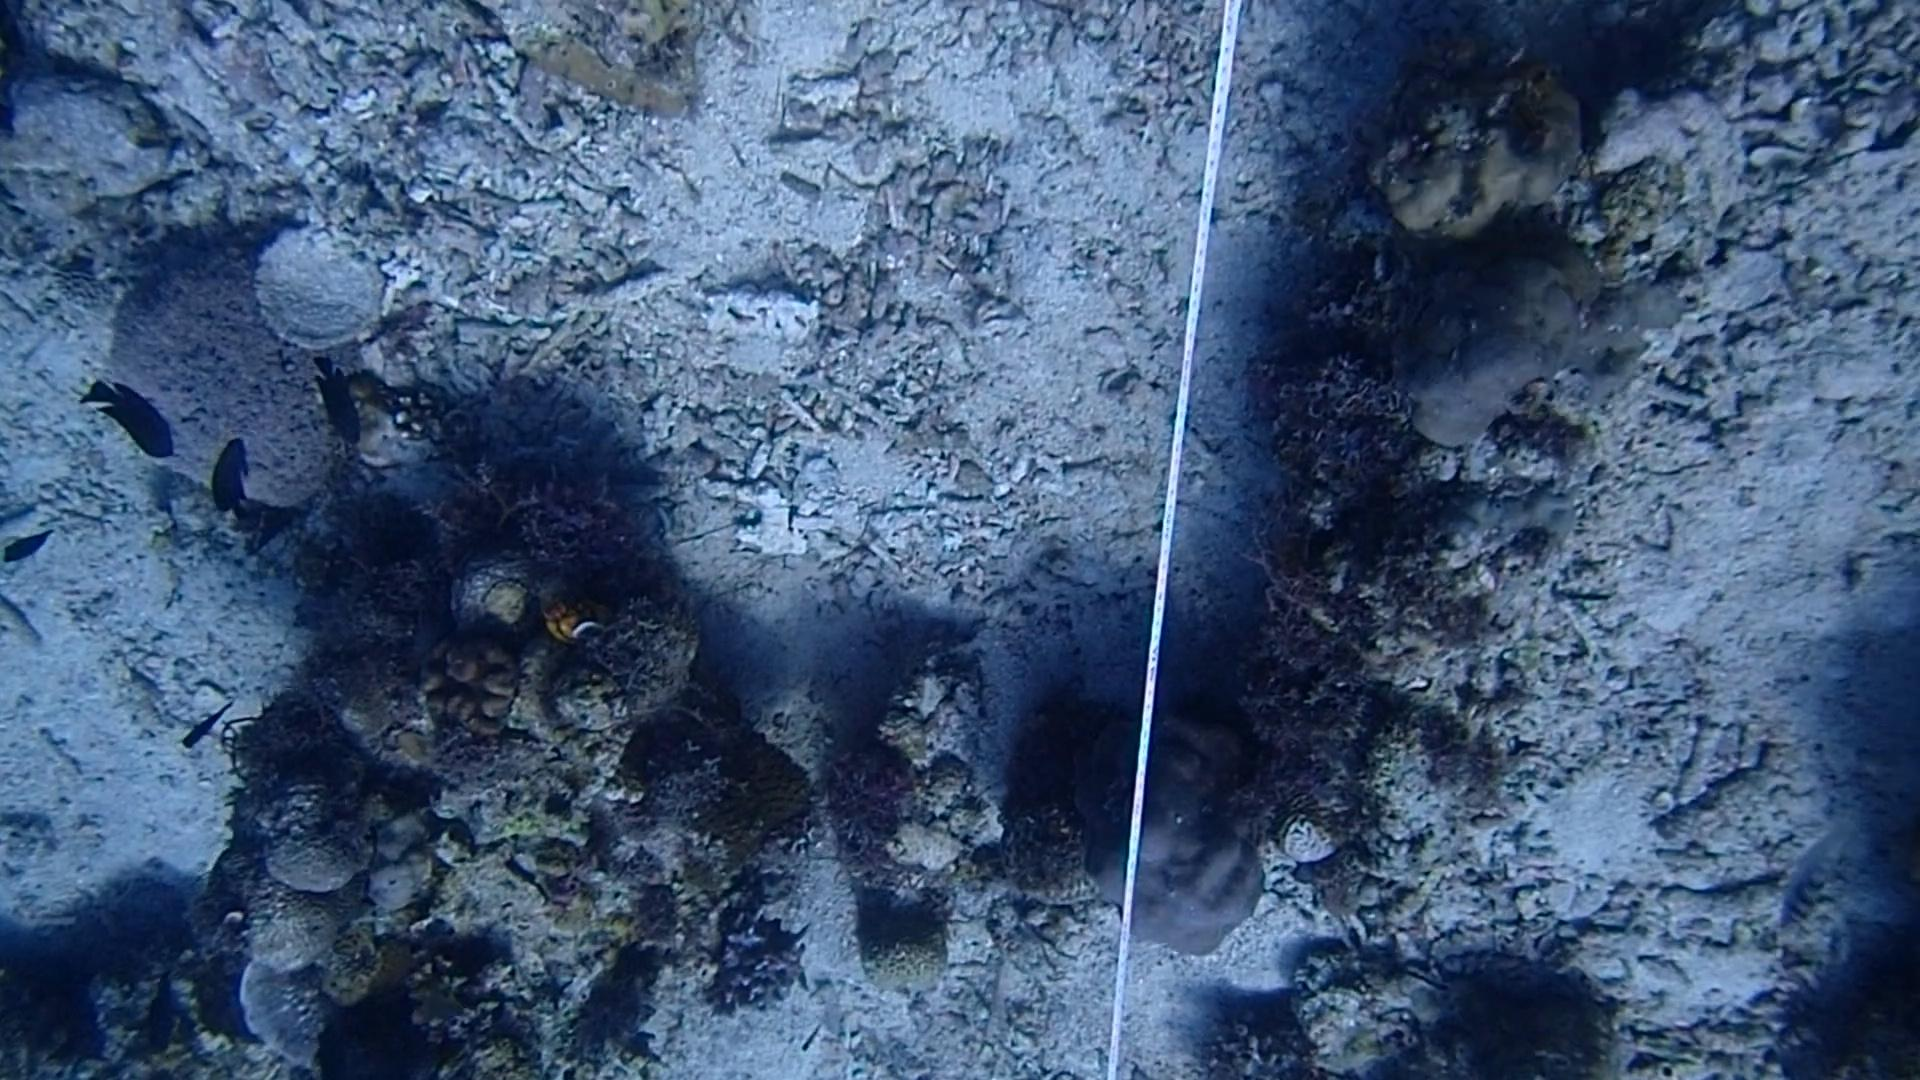Dark Fish: (75, 369, 187, 468), (293, 349, 381, 454), (203, 434, 266, 521), (133, 969, 193, 1062), (175, 703, 244, 756), (0, 524, 58, 574)
Light Fish w Back Stripes: (1771, 815, 1855, 934)
